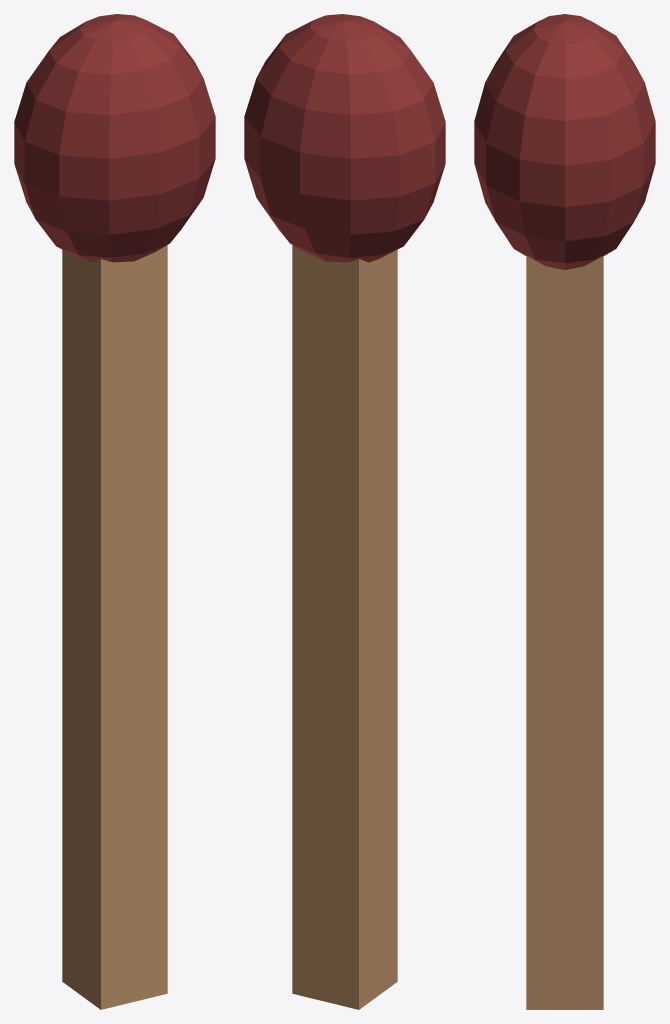
Rendered from Match.fbx.
The picture shows the model from 3 angles, left to right: view 1: azimuth 30°, elevation 25°; view 2: azimuth 150°, elevation 25°; view 3: azimuth 270°, elevation 25°; orthographic projection.
Visible parts, largest first — view 1: pCube2; view 2: pCube2; view 3: pCube2.
Part boxes in pixels (bbox=[...]): pCube2: bbox=[14, 14, 215, 1009]; pCube2: bbox=[244, 14, 445, 1009]; pCube2: bbox=[474, 14, 655, 1009].
Bounding box in the file's own units: 0.00557 × 0.0285 × 0.00483.
